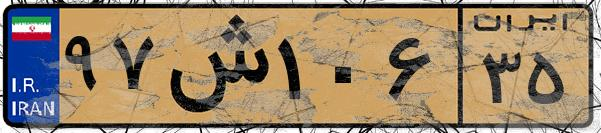0: (330, 28, 385, 110)
1: (270, 28, 330, 110)
3: (475, 38, 525, 113)
5: (525, 38, 570, 115)
6: (385, 28, 445, 110)
7: (110, 28, 158, 98)
9: (57, 26, 110, 100)
ش: (158, 12, 270, 120)
